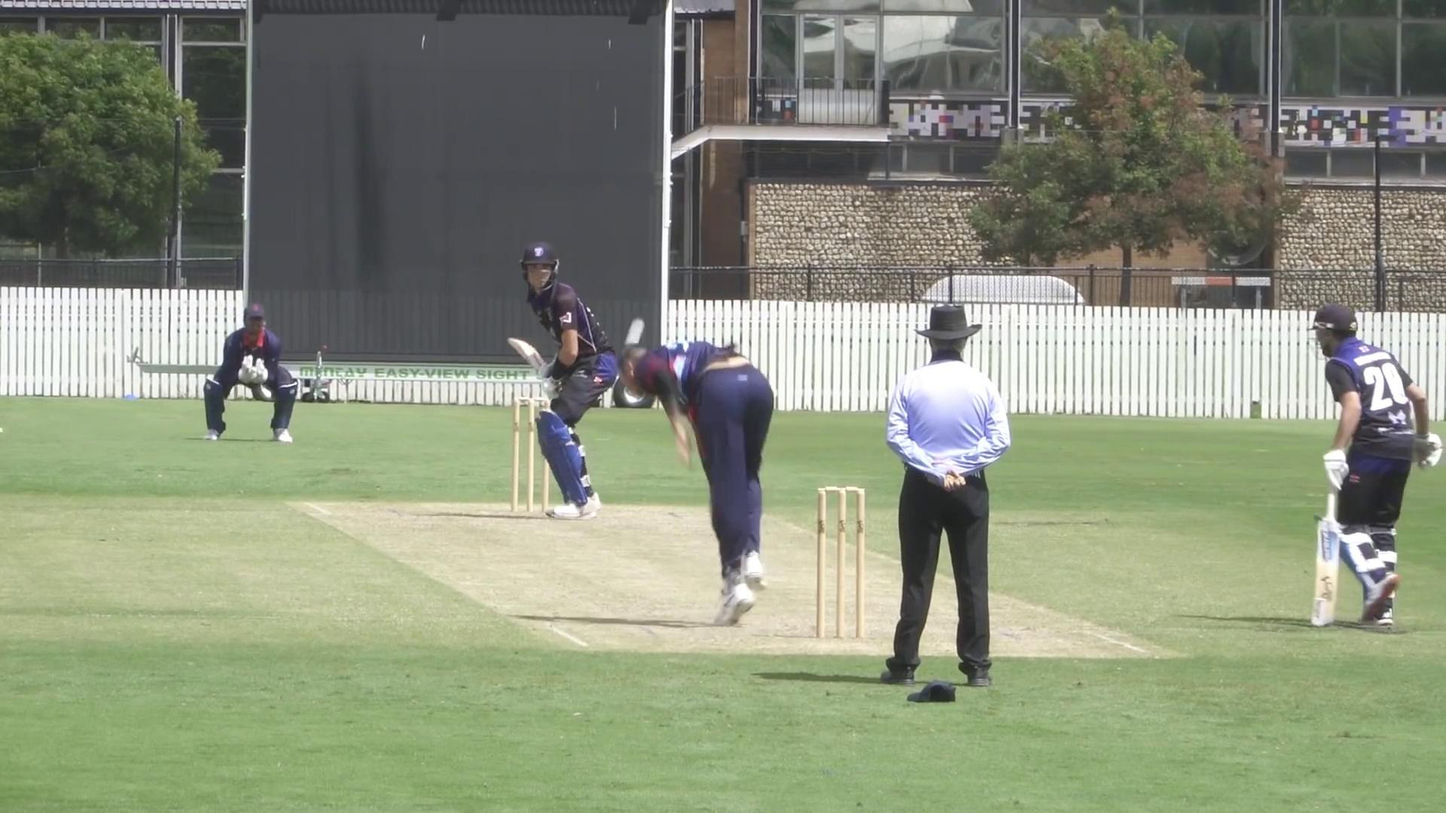ball: (622, 318, 645, 345)
